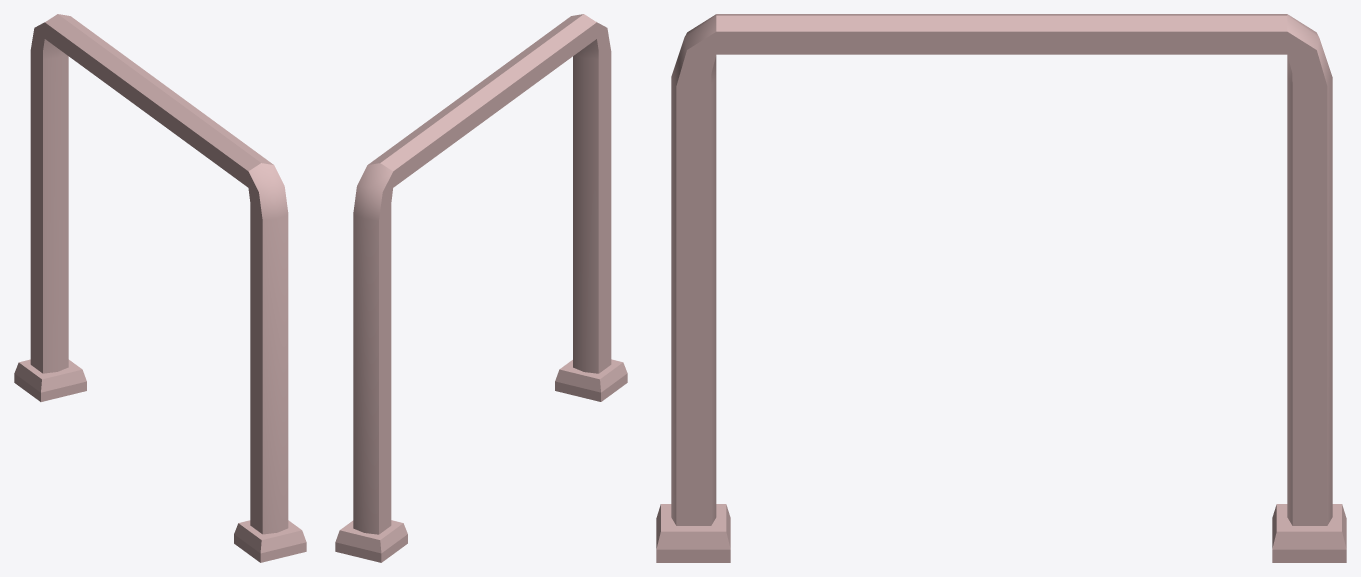
The model's file is Module_Ss_asset_bar4b.FBX.
3 views of the same model, side by side, from view 1: azimuth 30°, elevation 25°; view 2: azimuth 150°, elevation 25°; view 3: azimuth 270°, elevation 25° (orthographic). The views are drawn at different scales.
Visible parts, largest first — view 1: Module_Ss_asset_bar4b; view 2: Module_Ss_asset_bar4b; view 3: Module_Ss_asset_bar4b.
Part boxes in pixels (x1=…): Module_Ss_asset_bar4b: x1=14, y1=14, x2=306, y2=562; Module_Ss_asset_bar4b: x1=335, y1=14, x2=627, y2=562; Module_Ss_asset_bar4b: x1=656, y1=14, x2=1346, y2=562.
Bounding box in the file's own units: 2.75 × 21.61 × 25.45.
